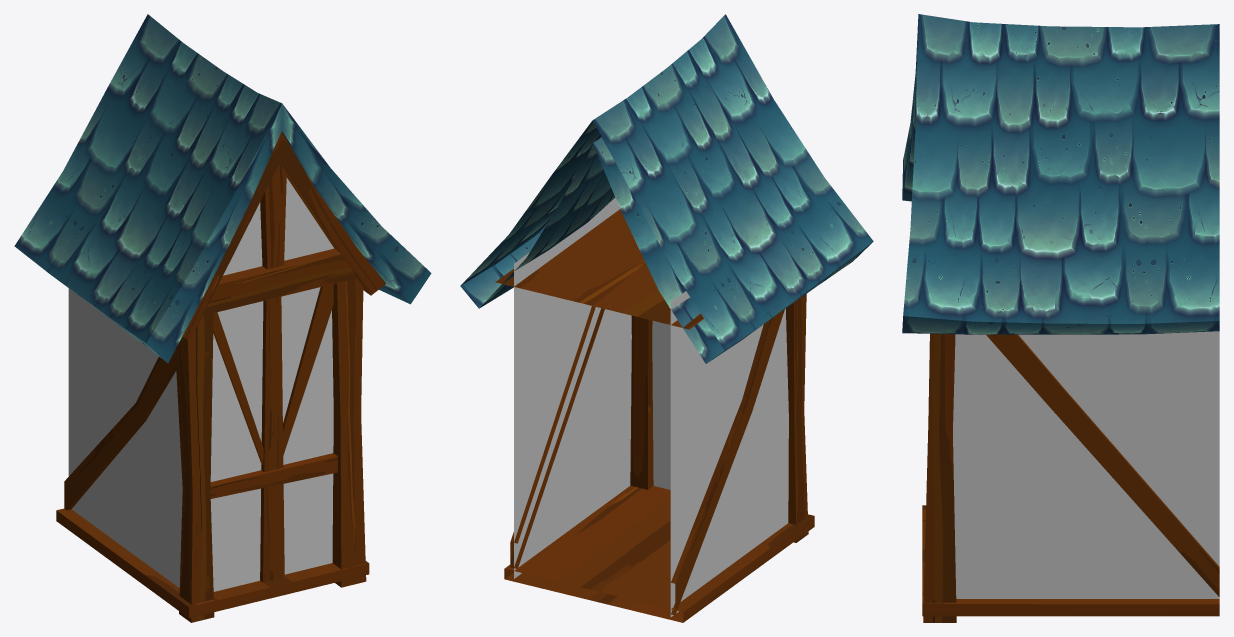
Rendered from SM_BLD_body_add_v02_01.fbx.
3 renders of one model, left to right at view 1: azimuth 30°, elevation 25°; view 2: azimuth 150°, elevation 25°; view 3: azimuth 270°, elevation 25°, orthographic. The views are drawn at different scales.
Visible parts, largest first — view 1: SM_BLD_body_add_v02_01; view 2: SM_BLD_body_add_v02_01; view 3: SM_BLD_body_add_v02_01.
Boxes of the visible parts, left/top/right/bottom form: SM_BLD_body_add_v02_01: left=14, top=14, right=431, bottom=622; SM_BLD_body_add_v02_01: left=460, top=14, right=873, bottom=622; SM_BLD_body_add_v02_01: left=902, top=14, right=1219, bottom=622.
Size of the model in its own units: 535 by 898 by 460.
